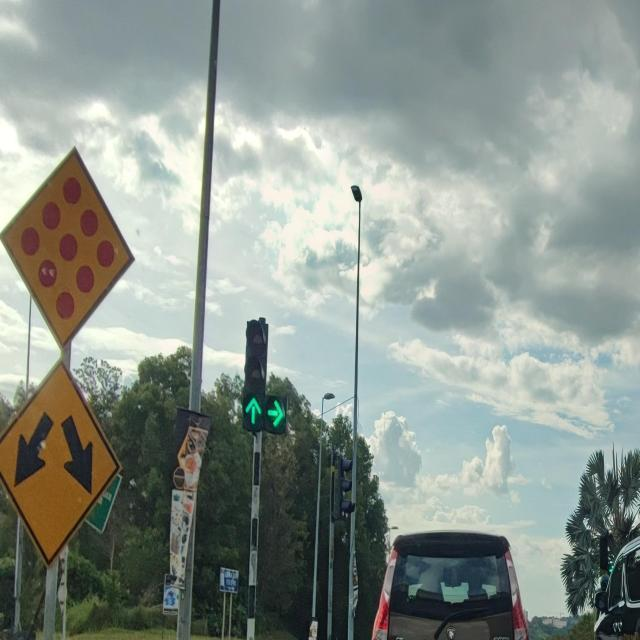green_light: (242, 318, 270, 432), (265, 321, 287, 436)
